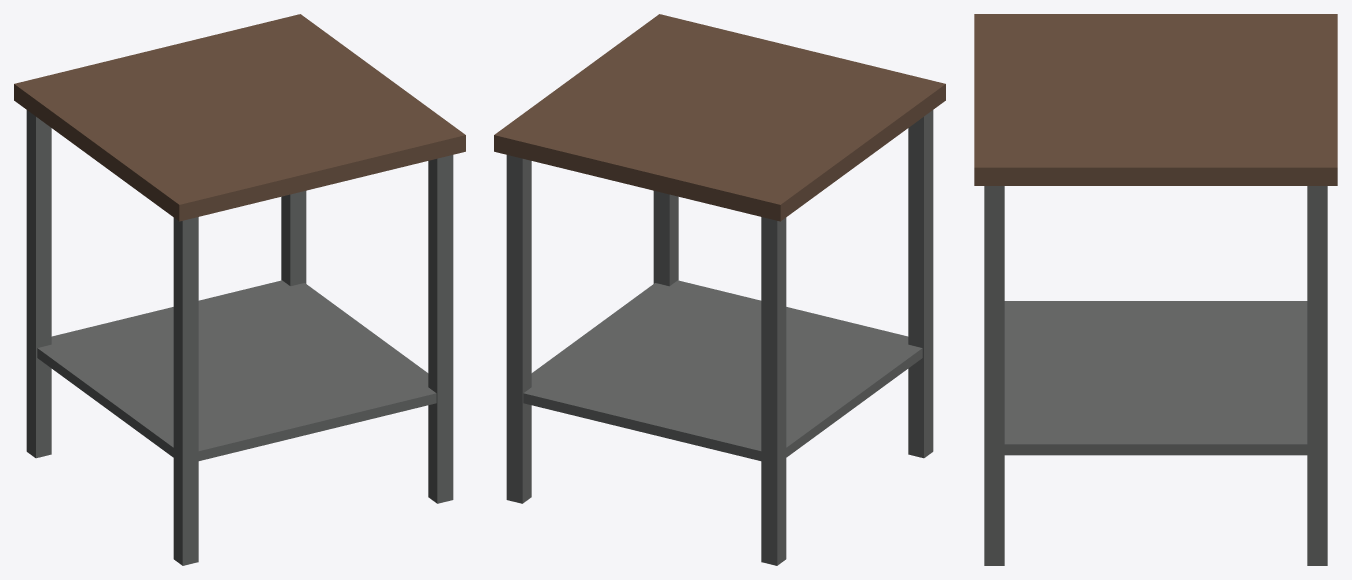
The model's file is side-table.glb.
3 renders of one model, left to right at view 1: azimuth 30°, elevation 25°; view 2: azimuth 150°, elevation 25°; view 3: azimuth 270°, elevation 25°, orthographic. The views are drawn at different scales.
Visible parts, largest first — view 1: metal, wood; view 2: metal, wood; view 3: metal, wood.
Part boxes in pixels (left/top/right/bottom): metal: left=26, top=110, right=453, bottom=565; wood: left=14, top=14, right=465, bottom=221; metal: left=506, top=110, right=933, bottom=565; wood: left=494, top=14, right=945, bottom=221; metal: left=984, top=186, right=1327, bottom=565; wood: left=974, top=14, right=1337, bottom=185.
Size of the model in its own units: 0.45 by 0.55 by 0.45.
